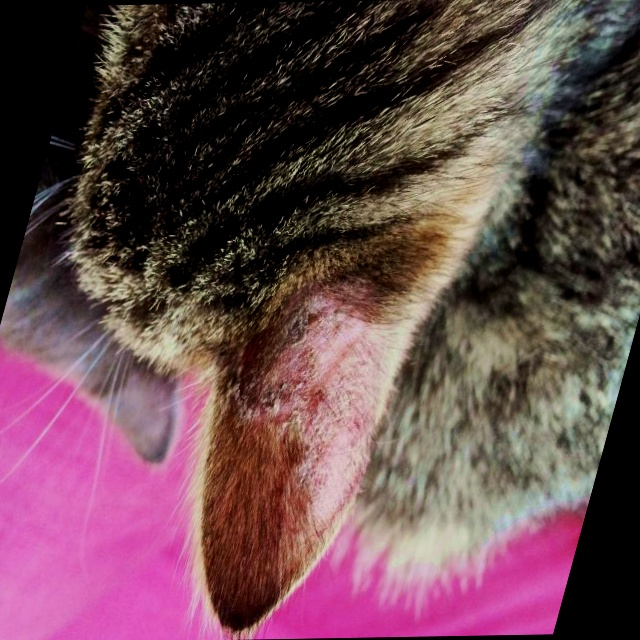ringworm: (225, 290, 415, 530)
